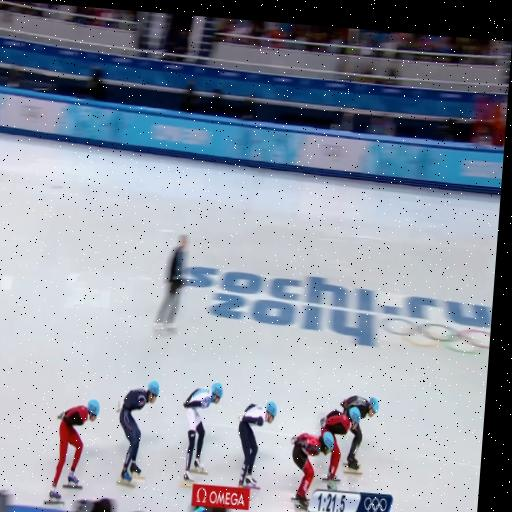Skater: (45, 400, 100, 504), (117, 381, 159, 486), (183, 383, 223, 485), (291, 432, 334, 509), (239, 402, 277, 489), (321, 407, 360, 490), (347, 425, 362, 471)
